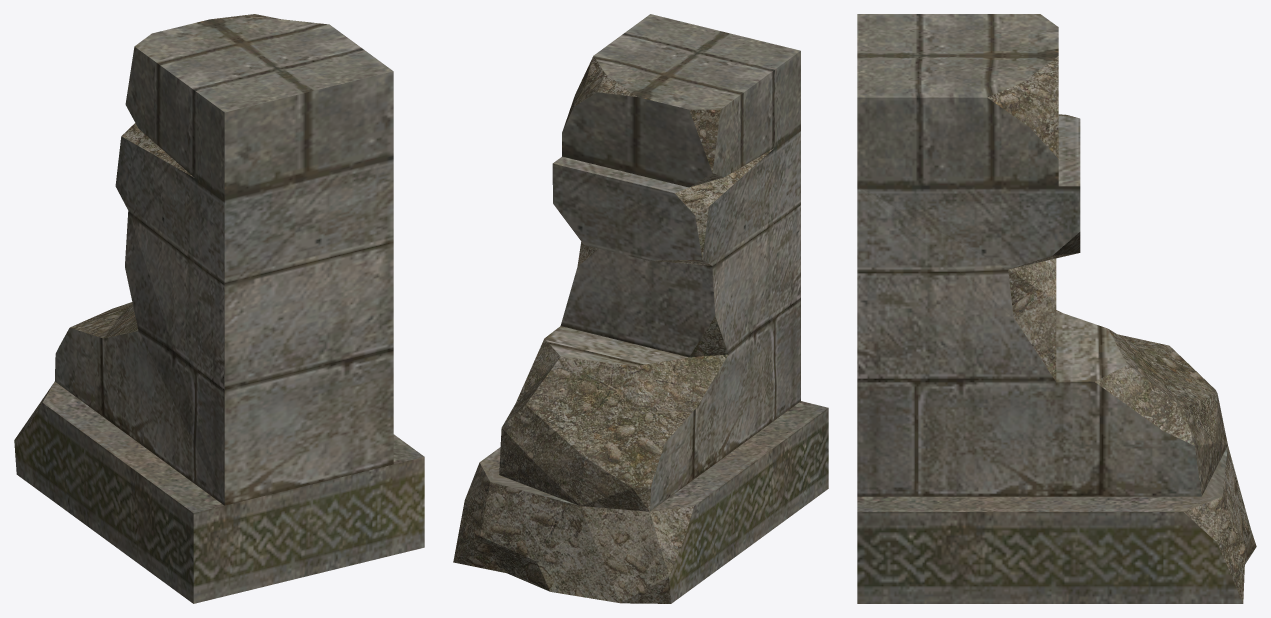
The model's file is bg_lut_lutomb_wall06b_sm_old.FBX.
3 views of the same model, side by side, from view 1: azimuth 30°, elevation 25°; view 2: azimuth 150°, elevation 25°; view 3: azimuth 270°, elevation 25° (orthographic). The views are drawn at different scales.
Parts seen in each view (by area): view 1: bg_lut_lutomb_wall06b_sm_old; view 2: bg_lut_lutomb_wall06b_sm_old; view 3: bg_lut_lutomb_wall06b_sm_old.
Boxes of the visible parts, x1=… form: bg_lut_lutomb_wall06b_sm_old: x1=14, y1=14, x2=424, y2=603; bg_lut_lutomb_wall06b_sm_old: x1=453, y1=14, x2=828, y2=603; bg_lut_lutomb_wall06b_sm_old: x1=857, y1=14, x2=1256, y2=603.
Bounding box in the file's own units: 64 × 128 × 94.37.
